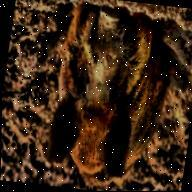boar: (29, 0, 190, 192)
